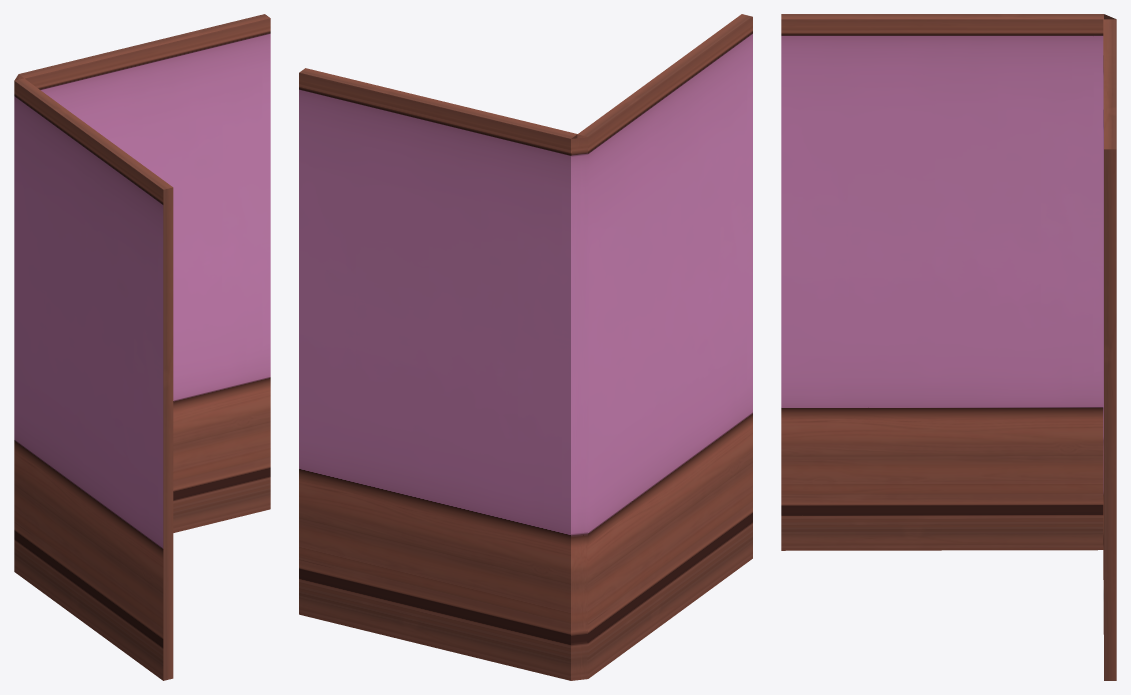
File: Wall_Corner.fbx
3 views of the same model, side by side, from view 1: azimuth 30°, elevation 25°; view 2: azimuth 150°, elevation 25°; view 3: azimuth 270°, elevation 25° (orthographic). The views are drawn at different scales.
Visible parts, largest first — view 1: pCube109; view 2: pCube109; view 3: pCube109.
Part boxes in pixels (<box>): pCube109: <box>14,14,270,680</box>; pCube109: <box>299,14,752,680</box>; pCube109: <box>781,14,1116,680</box>.
Bounding box in the file's own units: 1.09 × 1.14 × 2.
